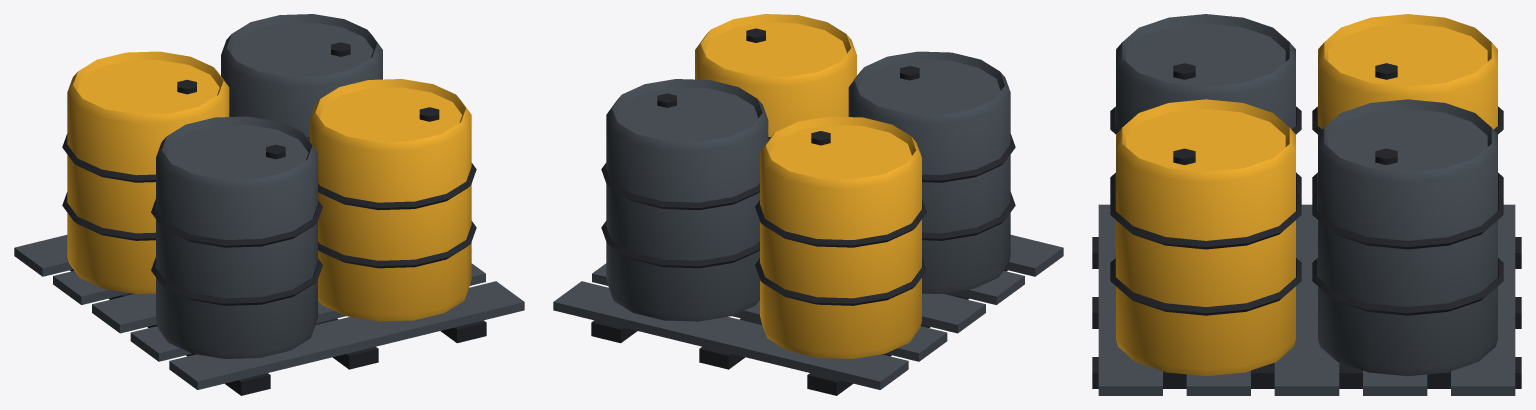
File: barrel.glb
The picture shows the model from 3 angles, left to right: view 1: azimuth 30°, elevation 25°; view 2: azimuth 150°, elevation 25°; view 3: azimuth 270°, elevation 25°; orthographic projection. The views are drawn at different scales.
Visible parts, largest first — view 1: barrel_mesh; view 2: barrel_mesh; view 3: barrel_mesh.
Boxes of the visible parts, x1,y1,x2,y2 form: barrel_mesh: (14,14,524,395); barrel_mesh: (553,14,1063,395); barrel_mesh: (1092,14,1521,395).
Bounding box in the file's own units: 2 × 1.17 × 2.
